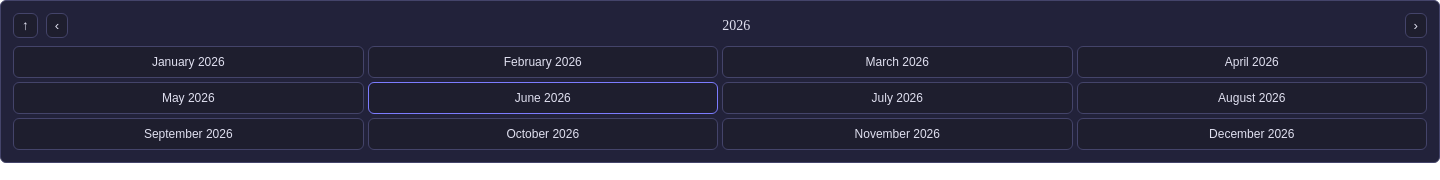
Test: ScopePicker — navigation › browses to the next year
Click the button named "next" at (1416, 26), box [1404, 13, 1427, 38]
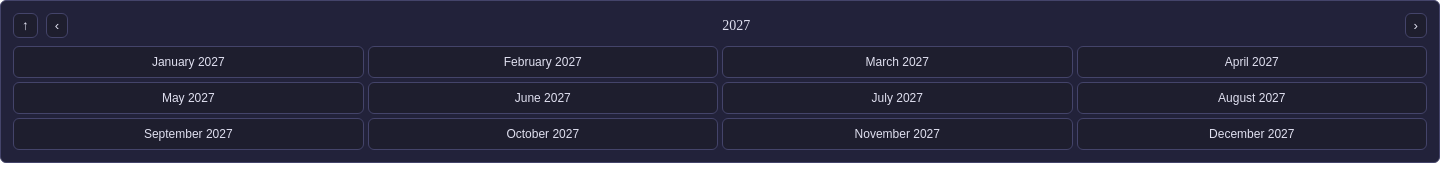
Expected: the button "June 2027" is shown, [368, 82, 718, 114]
